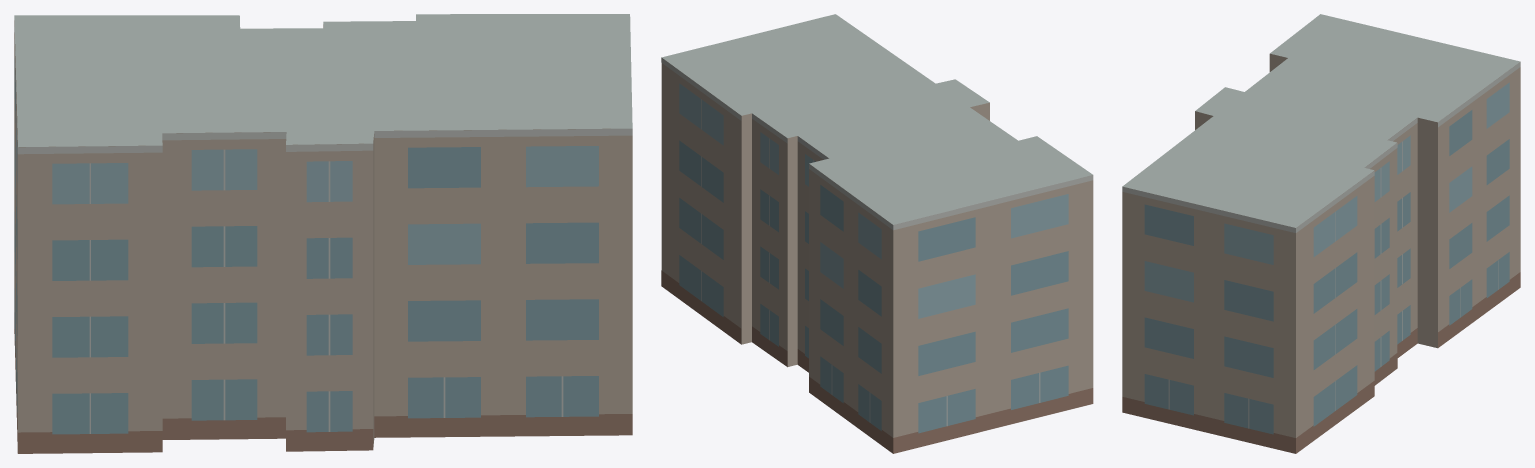
File: survey-upis-32673589.glb
The picture shows the model from 3 angles, left to right: view 1: azimuth 30°, elevation 25°; view 2: azimuth 150°, elevation 25°; view 3: azimuth 270°, elevation 25°; orthographic projection. The views are drawn at different scales.
Parts seen in each view (by area): view 1: survey-upis-32673589.tmp; view 2: survey-upis-32673589.tmp; view 3: survey-upis-32673589.tmp.
Boxes of the visible parts, <box> form: survey-upis-32673589.tmp: <box>14,14,632,453</box>; survey-upis-32673589.tmp: <box>661,14,1093,453</box>; survey-upis-32673589.tmp: <box>1122,14,1520,453</box>.
Bounding box in the file's own units: 21.44 × 10.55 × 16.87.
